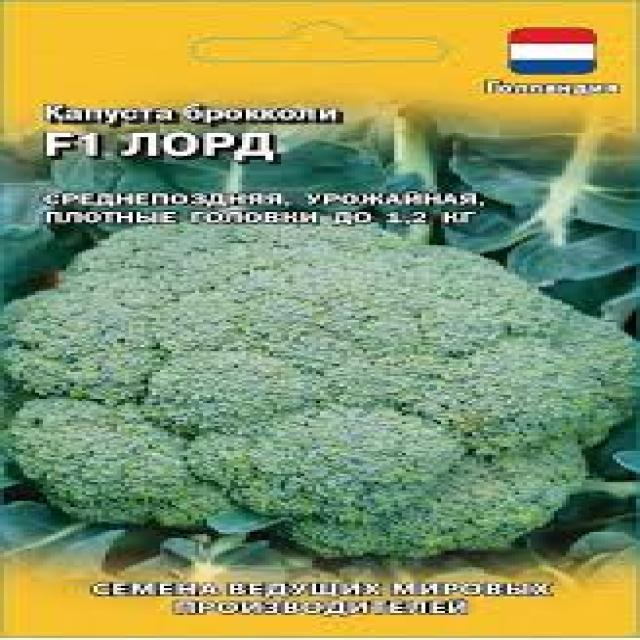broccoli: (0, 218, 640, 566)
